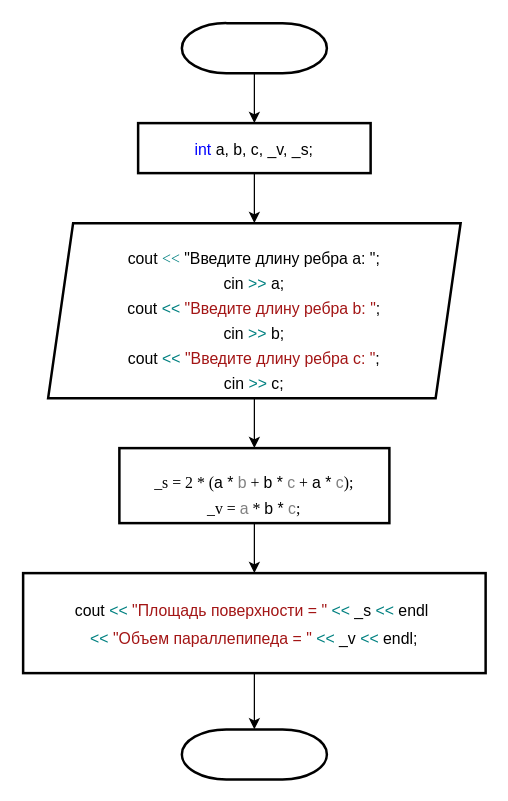
Some shapes in this 508 by 801 pixel diagram are drawn without their labels. The centre of each missing label's shape, as x and y in pixels:
Конец: (x=254, y=754)
Начало: (x=254, y=47)
